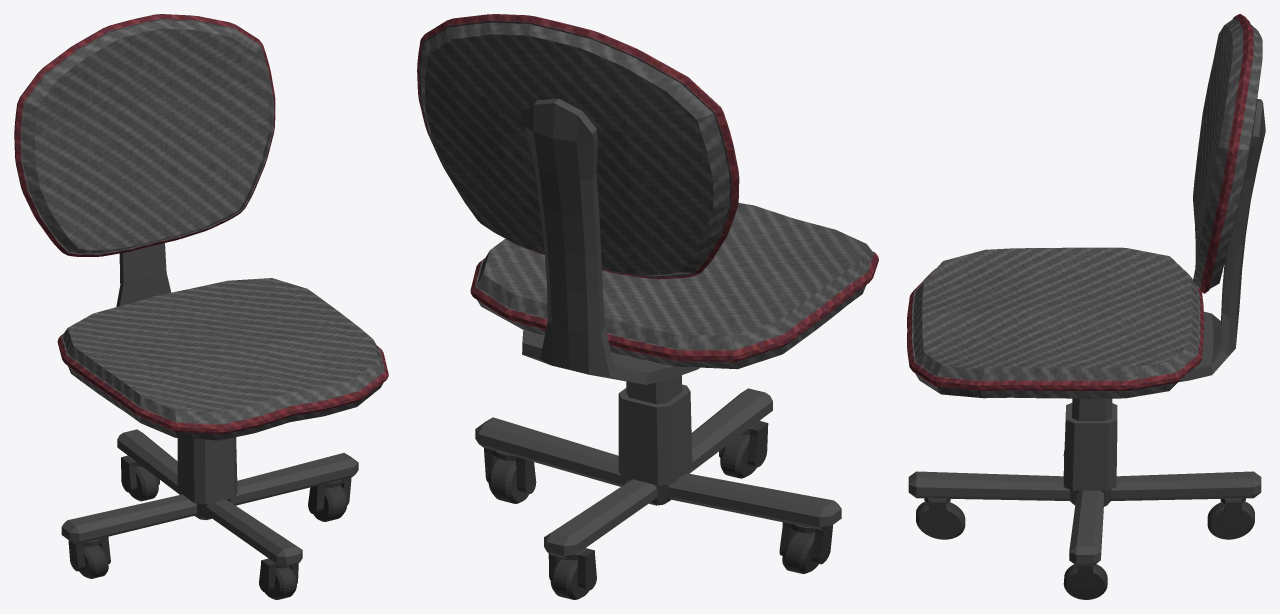
Rendered from Chair2.fbx.
The picture shows the model from 3 angles, left to right: view 1: azimuth 30°, elevation 25°; view 2: azimuth 150°, elevation 25°; view 3: azimuth 270°, elevation 25°; orthographic projection. The views are drawn at different scales.
Visible parts, largest first — view 1: Chair2Baked; view 2: Chair2Baked; view 3: Chair2Baked.
Part boxes in pixels (bbox=[...]): Chair2Baked: bbox=[14, 14, 388, 599]; Chair2Baked: bbox=[417, 14, 878, 599]; Chair2Baked: bbox=[907, 14, 1265, 599].
Bounding box in the file's own units: 271 × 422 × 275.
